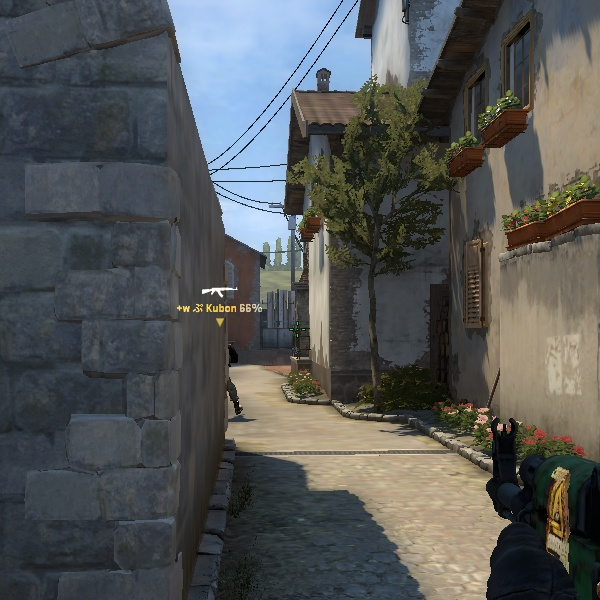t_body: (220, 337, 248, 416)
